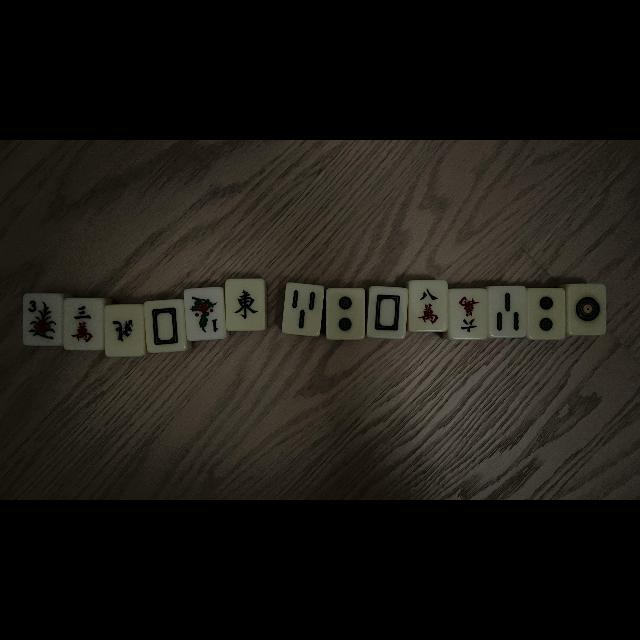b3: (284, 284, 320, 334), (490, 288, 524, 336)
c3: (65, 299, 102, 349)
c6: (449, 290, 485, 338)
c8: (410, 282, 446, 330)
d2: (529, 288, 563, 338), (328, 289, 362, 337)
dw: (146, 302, 184, 350), (370, 288, 404, 338)
f1-s: (186, 288, 224, 338)
f3-s: (24, 295, 62, 345)
we: (227, 280, 266, 328)
wn: (106, 306, 142, 354)
